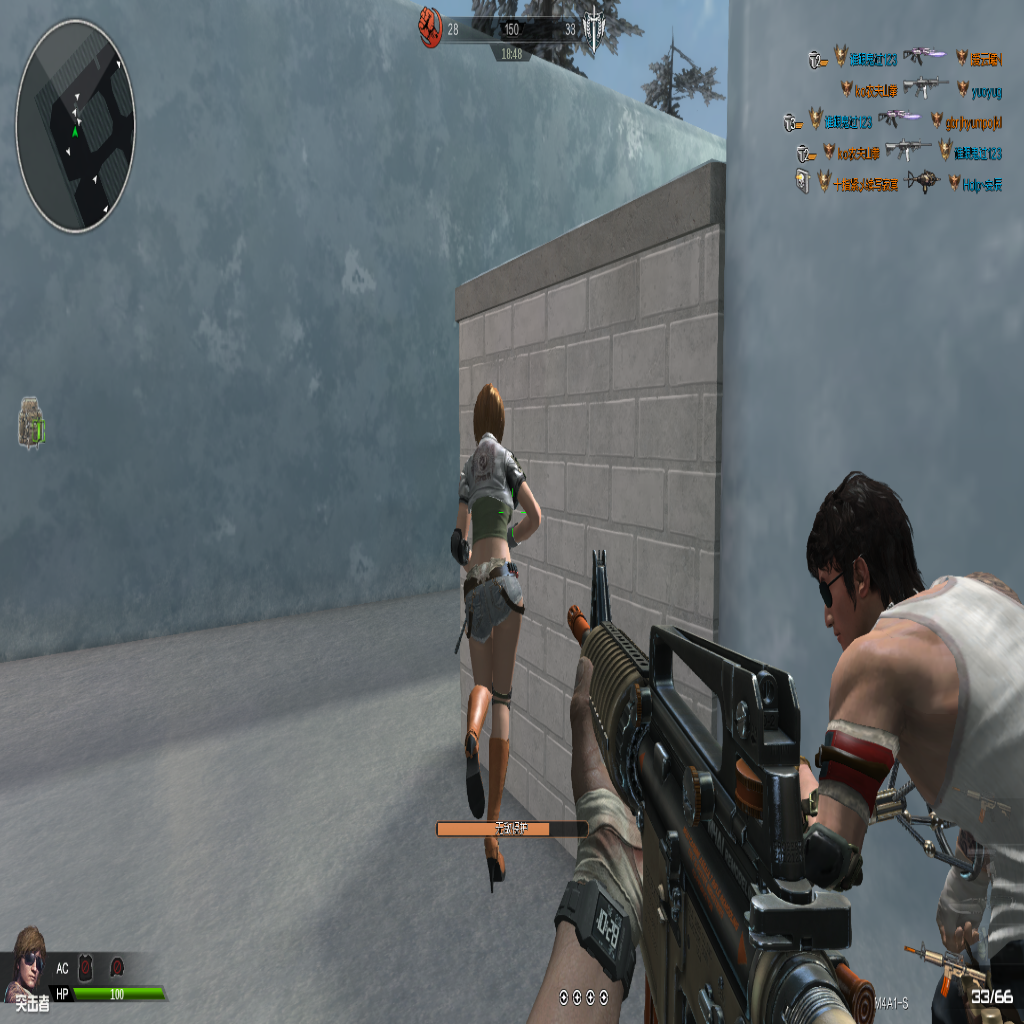tt: (452, 373, 535, 844)
